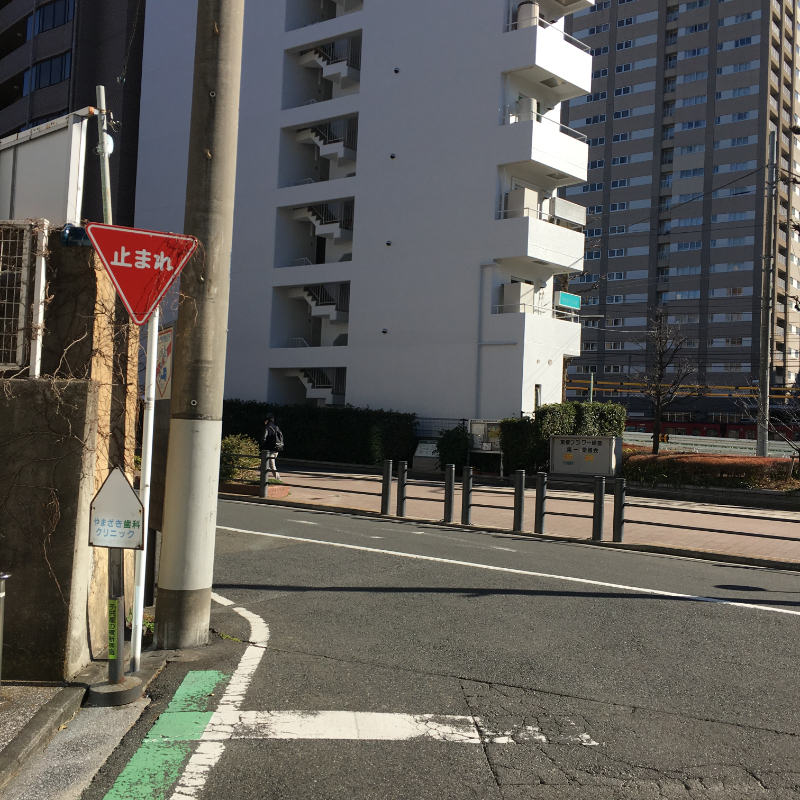STOP: (84, 218, 198, 327)
